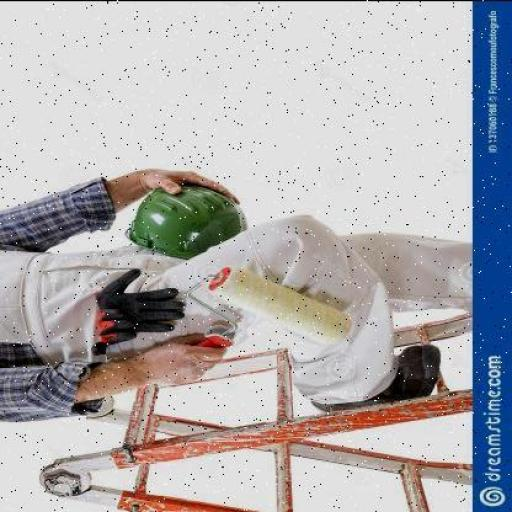safety_shoe: (306, 341, 440, 410)
